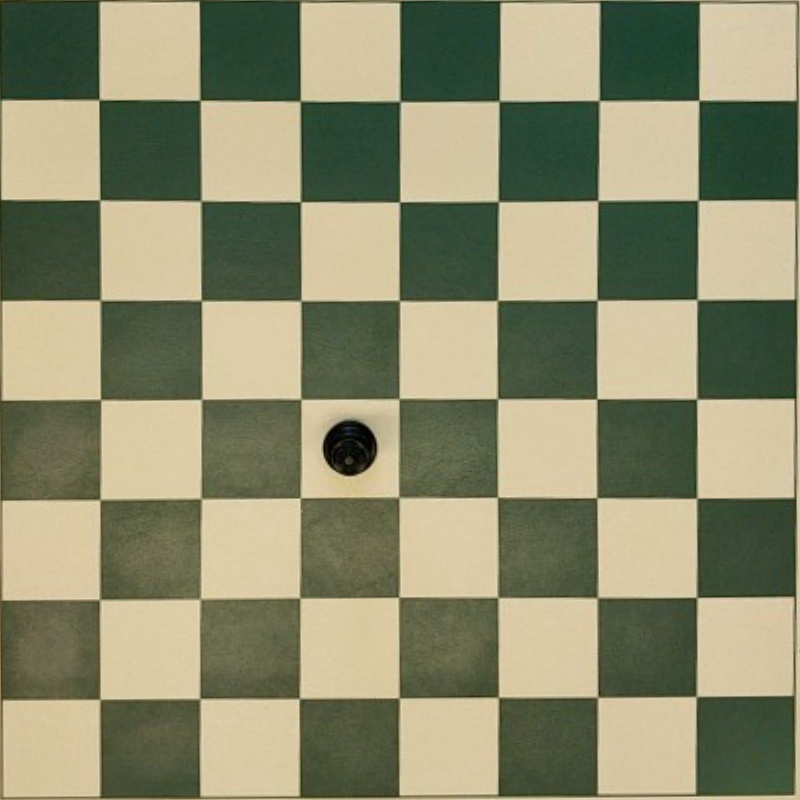black-bishop: (322, 420, 378, 476)
